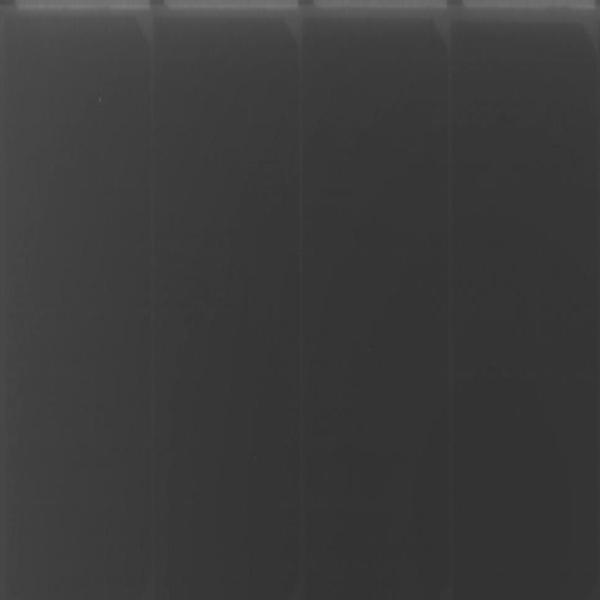no_electricity: (1, 1, 599, 598)
